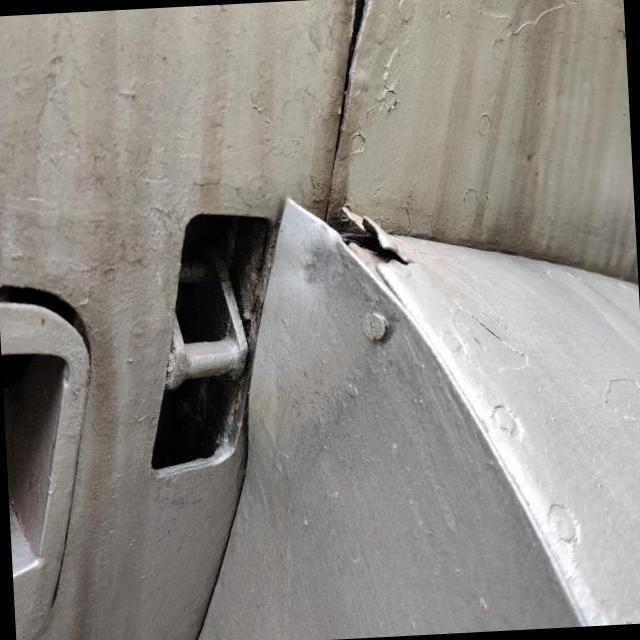Rupture: (320, 191, 430, 294)
